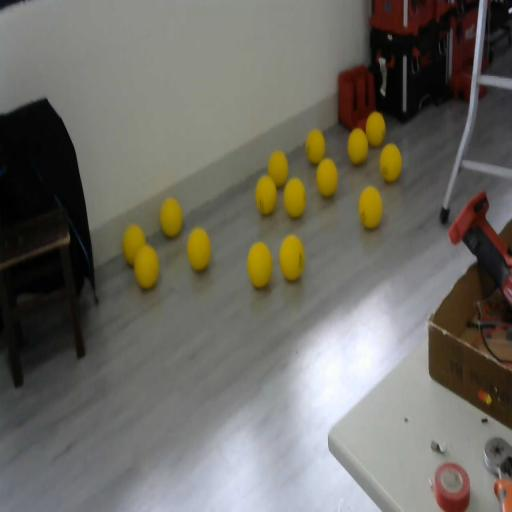FUEL: (278, 234, 305, 282), (133, 242, 159, 290), (186, 226, 212, 272), (247, 242, 273, 288), (358, 185, 383, 230), (283, 176, 307, 219), (159, 196, 183, 238), (254, 174, 278, 216), (379, 143, 402, 183), (347, 126, 369, 166), (316, 158, 338, 198), (364, 110, 386, 147), (268, 150, 288, 188), (306, 129, 326, 165)
